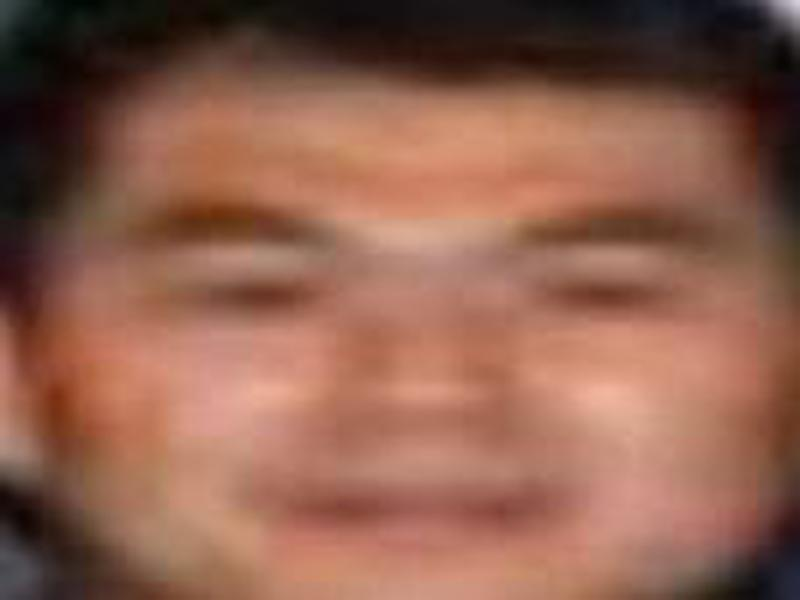without_mask: (51, 84, 800, 600)
